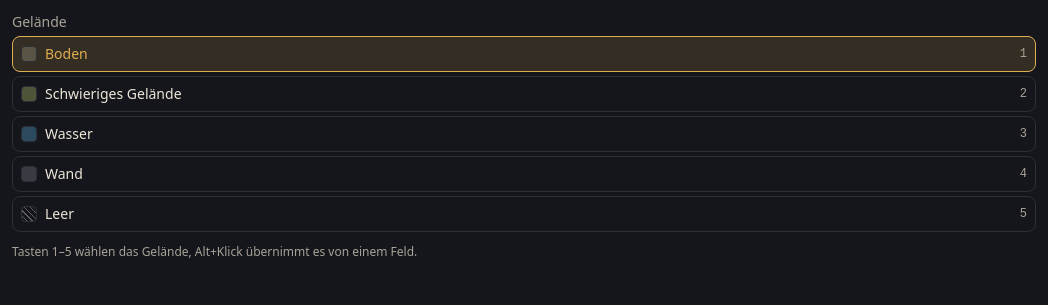
Test: TerrainPanel › picks the terrain to paint, void as "Leer"
The width and height of the screenshot is (1048, 305).
Click the button "Leer 5" at (29, 214), box [12, 196, 1036, 232]
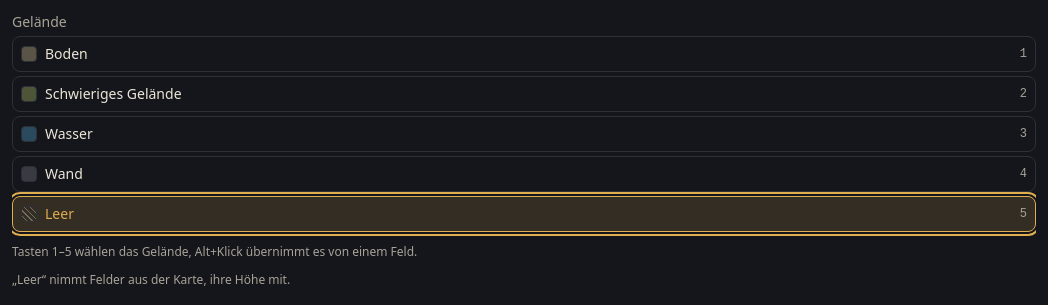
Now the text "„Leer“ nimmt Felder aus der Karte, ihre Höhe mit." is shown, box [12, 271, 290, 288]
